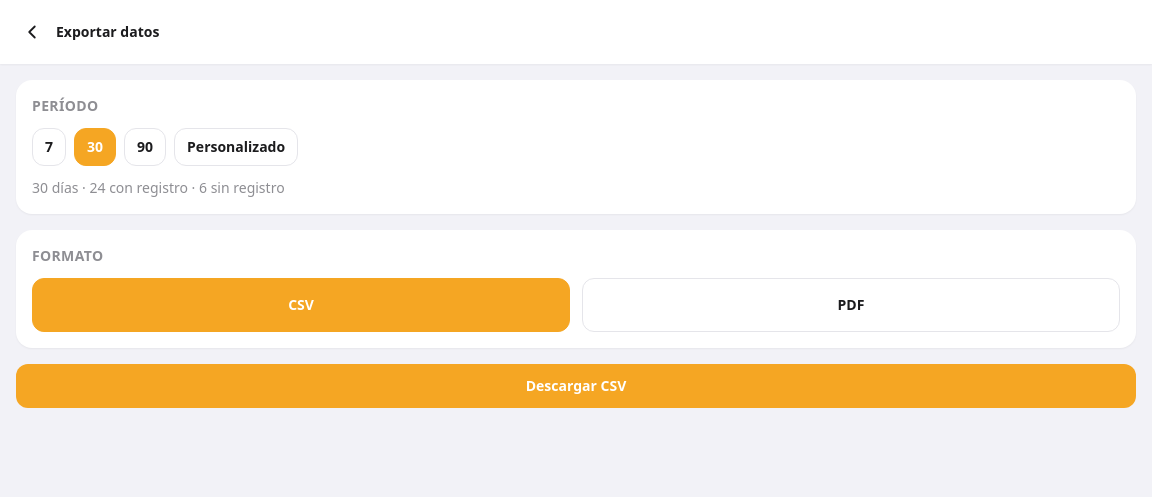
Scenario: ExportRoute custom range validation › shows an error and disables download for 2026-10-10..2026-10-09
expect the text "30 días · 24 con registro · 6 sin registro" is shown: met, box [32, 178, 285, 197]
Click the button "Personalizado".
click(236, 147)  # box [174, 128, 298, 166]
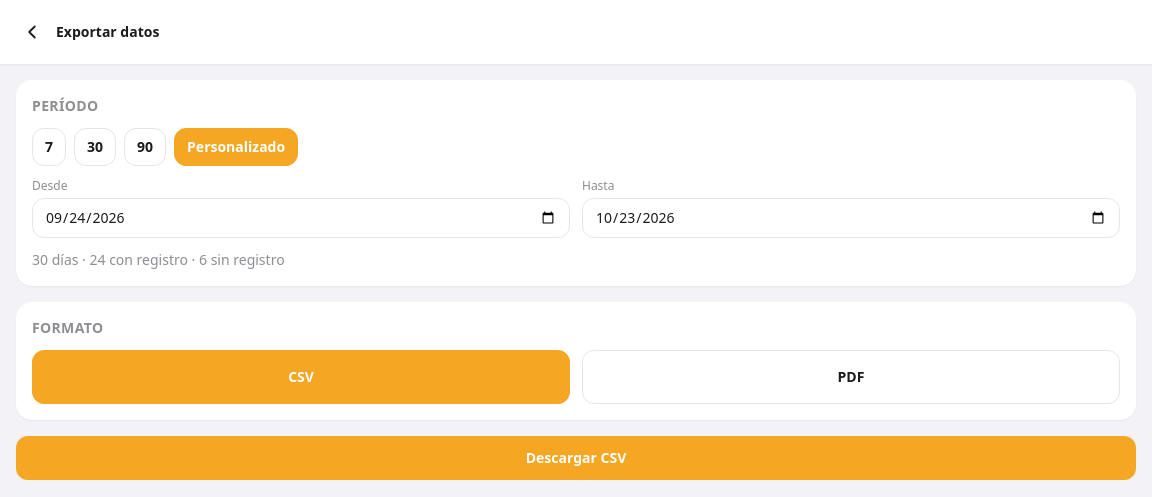
Type "2026-10-10" into the date field labelled "Desde".
click(301, 218); type("2026-10-10")  # box [32, 198, 570, 238]
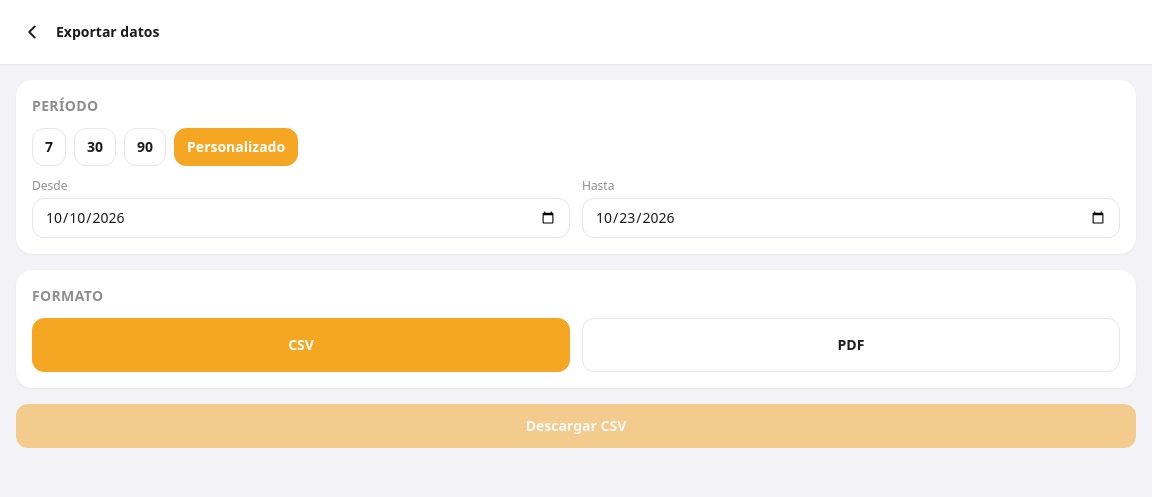
Type "2026-10-09" into the date field labelled "Hasta".
click(851, 218); type("2026-10-09")  # box [582, 198, 1120, 238]
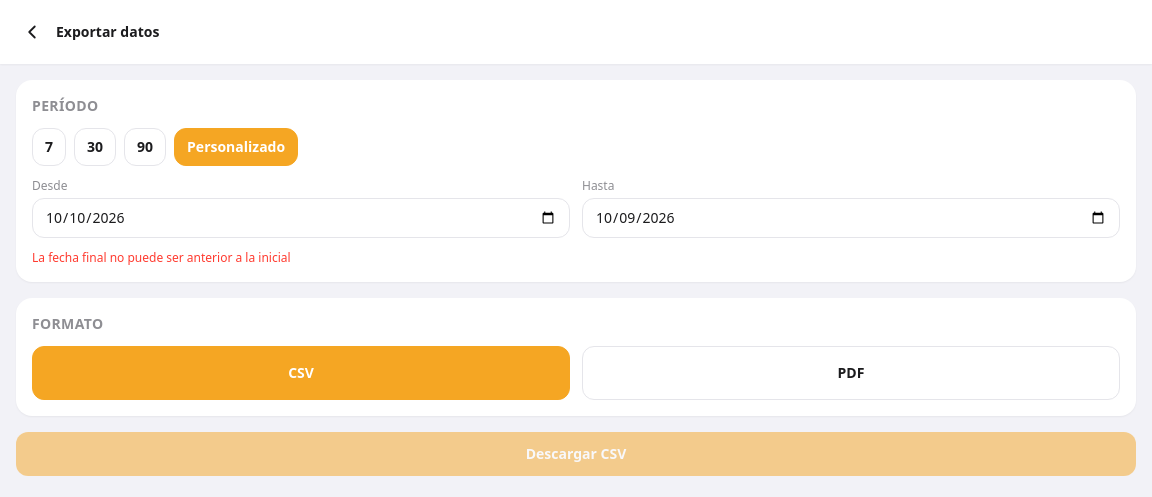
expect the text "con registro" is not shown: met
expect the button "Descargar CSV" is disabled: met, box [16, 432, 1136, 476]
expect the text "La fecha final no puede ser anterior a la inicial" is shown: met, box [32, 249, 291, 266]
